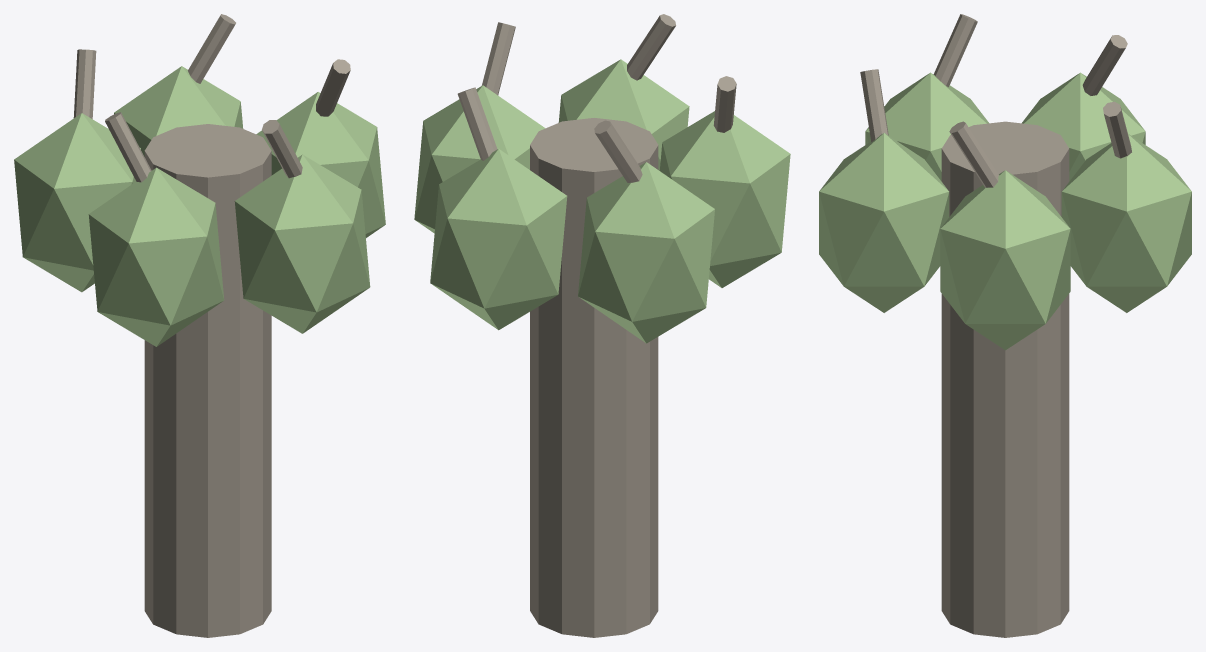
Rendered from willow_sapling.glb.
3 views of the same model, side by side, from view 1: azimuth 30°, elevation 25°; view 2: azimuth 150°, elevation 25°; view 3: azimuth 270°, elevation 25° (orthographic).
Parts seen in each view (by area): view 1: WillowSaplingTrunk, WillowSaplingLeafCluster_3, WillowSaplingLeafCluster_4, WillowSaplingLeafCluster_2, WillowSaplingLeafCluster_0, WillowSaplingLeafCluster_1, WillowSaplingBranch_3, WillowSaplingBranch_2, WillowSaplingBranch_1, WillowSaplingBranch_4, WillowSaplingBranch_0; view 2: WillowSaplingTrunk, WillowSaplingLeafCluster_1, WillowSaplingLeafCluster_2, WillowSaplingLeafCluster_3, WillowSaplingLeafCluster_0, WillowSaplingLeafCluster_4, WillowSaplingBranch_4, WillowSaplingBranch_1, WillowSaplingBranch_2, WillowSaplingBranch_0, WillowSaplingBranch_3; view 3: WillowSaplingTrunk, WillowSaplingLeafCluster_0, WillowSaplingLeafCluster_4, WillowSaplingLeafCluster_1, WillowSaplingLeafCluster_3, WillowSaplingLeafCluster_2, WillowSaplingBranch_3, WillowSaplingBranch_0, WillowSaplingBranch_4, WillowSaplingBranch_2, WillowSaplingBranch_1.
Part boxes in pixels (x1=…): WillowSaplingTrunk: x1=144, y1=124, x2=271, y2=637; WillowSaplingLeafCluster_3: x1=88, y1=167, x2=224, y2=346; WillowSaplingLeafCluster_4: x1=234, y1=154, x2=370, y2=333; WillowSaplingLeafCluster_2: x1=14, y1=113, x2=140, y2=292; WillowSaplingLeafCluster_0: x1=256, y1=92, x2=385, y2=237; WillowSaplingLeafCluster_1: x1=114, y1=66, x2=243, y2=156; WillowSaplingBranch_3: x1=105, y1=112, x2=151, y2=182; WillowSaplingBranch_2: x1=73, y1=49, x2=96, y2=118; WillowSaplingBranch_1: x1=188, y1=14, x2=235, y2=83; WillowSaplingBranch_4: x1=262, y1=120, x2=302, y2=178; WillowSaplingBranch_0: x1=316, y1=59, x2=350, y2=116; WillowSaplingTrunk: x1=530, y1=118, x2=658, y2=637; WillowSaplingLeafCluster_1: x1=430, y1=149, x2=567, y2=330; WillowSaplingLeafCluster_2: x1=578, y1=162, x2=714, y2=343; WillowSaplingLeafCluster_3: x1=659, y1=111, x2=790, y2=287; WillowSaplingLeafCluster_0: x1=414, y1=85, x2=545, y2=233; WillowSaplingLeafCluster_4: x1=558, y1=59, x2=689, y2=170; WillowSaplingBranch_4: x1=627, y1=14, x2=676, y2=80; WillowSaplingBranch_1: x1=457, y1=87, x2=497, y2=160; WillowSaplingBranch_2: x1=594, y1=120, x2=642, y2=182; WillowSaplingBranch_0: x1=481, y1=22, x2=515, y2=95; WillowSaplingBranch_3: x1=713, y1=76, x2=736, y2=132; WillowSaplingTrunk: x1=941, y1=121, x2=1069, y2=637; WillowSaplingLeafCluster_0: x1=940, y1=170, x2=1070, y2=350; WillowSaplingLeafCluster_4: x1=819, y1=133, x2=949, y2=312; WillowSaplingLeafCluster_1: x1=1061, y1=134, x2=1191, y2=312; WillowSaplingLeafCluster_3: x1=865, y1=72, x2=988, y2=180; WillowSaplingLeafCluster_2: x1=1022, y1=72, x2=1145, y2=180; WillowSaplingBranch_3: x1=933, y1=14, x2=977, y2=87; WillowSaplingBranch_0: x1=949, y1=121, x2=999, y2=187; WillowSaplingBranch_4: x1=860, y1=69, x2=888, y2=142; WillowSaplingBranch_2: x1=1082, y1=35, x2=1127, y2=95; WillowSaplingBranch_1: x1=1103, y1=101, x2=1131, y2=158.
Size of the model in its own units: 0.5765 by 0.9374 by 0.5846.
